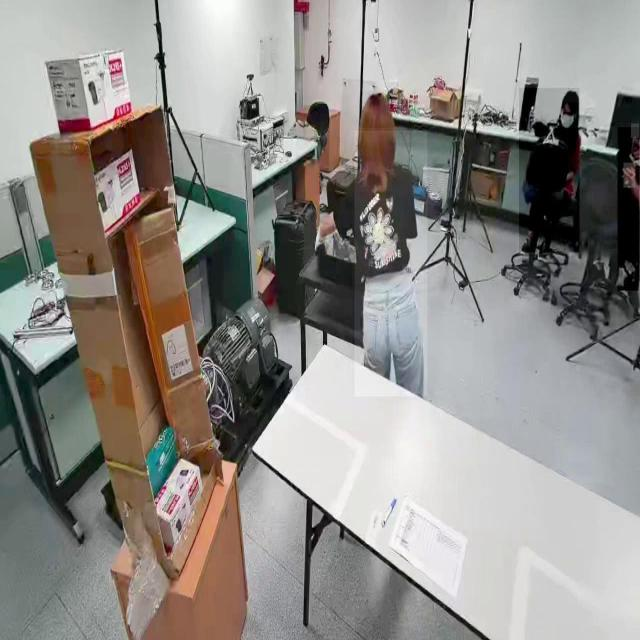face_mask: (558, 106, 578, 137)
hand_glove: (311, 218, 326, 254)
hand_noglove: (624, 162, 636, 188)
head_nohelmet: (360, 91, 394, 129), (560, 89, 580, 103), (631, 124, 639, 138)
person: (354, 131, 428, 397), (519, 88, 580, 253), (618, 127, 640, 292)
